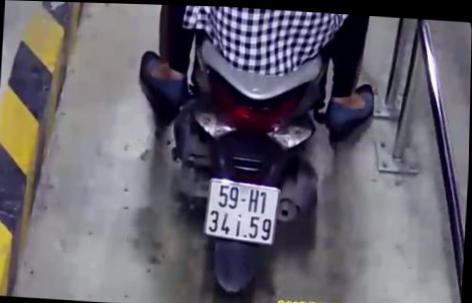LP: (206, 176, 283, 244)
